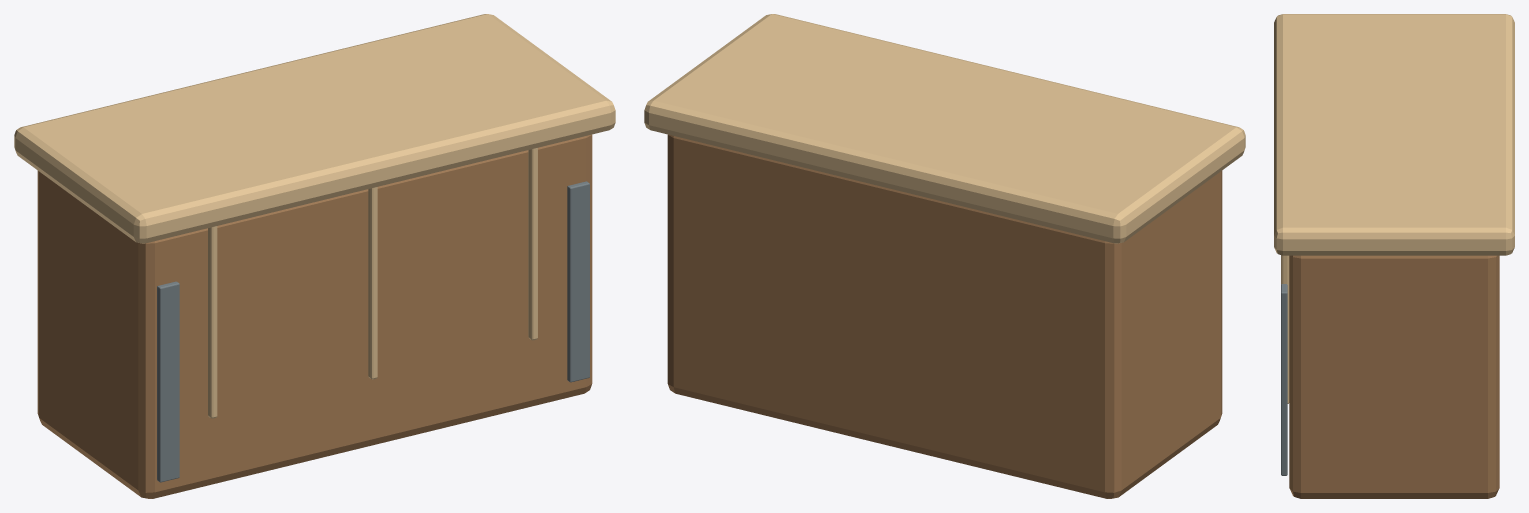
File: woodwork_nagamochi.glb
3 renders of one model, left to right at view 1: azimuth 30°, elevation 25°; view 2: azimuth 150°, elevation 25°; view 3: azimuth 270°, elevation 25°, orthographic. The views are drawn at different scales.
Parts seen in each view (by area): view 1: Massive joined nagamochi storage chest, Banded removable raised chest lid, Metal reinforcement corner.001, Metal reinforcement corner, Carved wooden chest plank, Carved wooden chest plank.001, Carved wooden chest plank.002; view 2: Massive joined nagamochi storage chest, Banded removable raised chest lid; view 3: Banded removable raised chest lid, Massive joined nagamochi storage chest, Metal reinforcement corner.001, Carved wooden chest plank.002.
Boxes of the visible parts, bbox=[...] form: Massive joined nagamochi storage chest: bbox=[37, 134, 592, 498]; Banded removable raised chest lid: bbox=[14, 14, 615, 243]; Metal reinforcement corner.001: bbox=[567, 181, 589, 382]; Metal reinforcement corner: bbox=[157, 281, 179, 482]; Carved wooden chest plank: bbox=[208, 226, 217, 418]; Carved wooden chest plank.001: bbox=[368, 187, 377, 379]; Carved wooden chest plank.002: bbox=[528, 148, 537, 340]; Massive joined nagamochi storage chest: bbox=[667, 134, 1222, 498]; Banded removable raised chest lid: bbox=[644, 14, 1245, 243]; Banded removable raised chest lid: bbox=[1274, 14, 1514, 255]; Massive joined nagamochi storage chest: bbox=[1289, 255, 1499, 498]; Metal reinforcement corner.001: bbox=[1281, 284, 1287, 475]; Carved wooden chest plank.002: bbox=[1281, 255, 1289, 403].
Size of the model in its own units: 1.95 by 1.15 by 0.8985.
